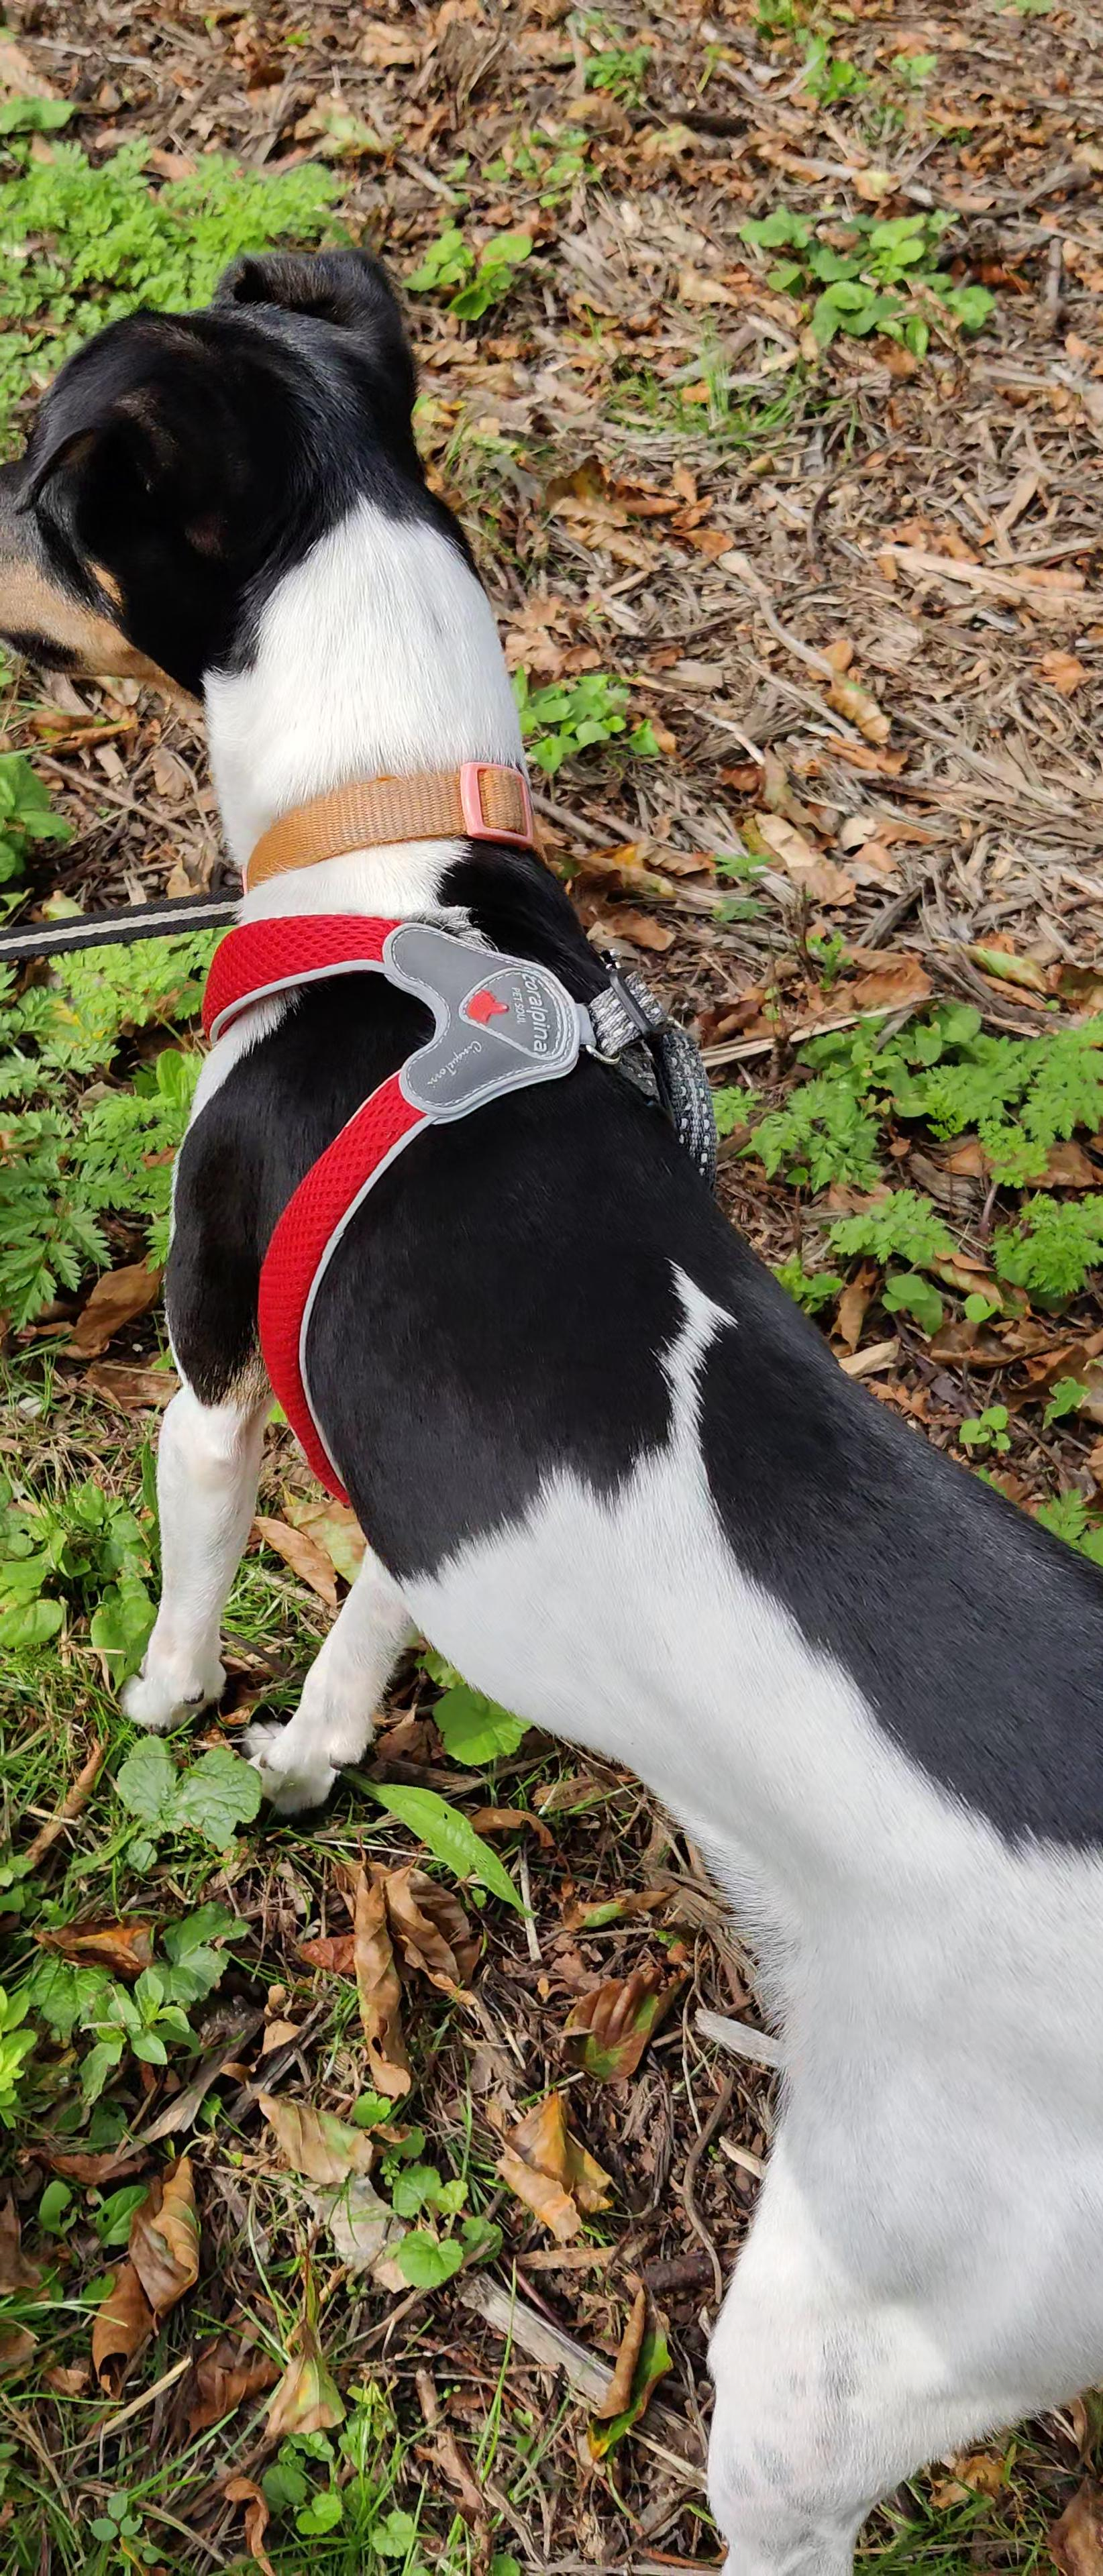Dog: (0, 204, 1103, 2576)
